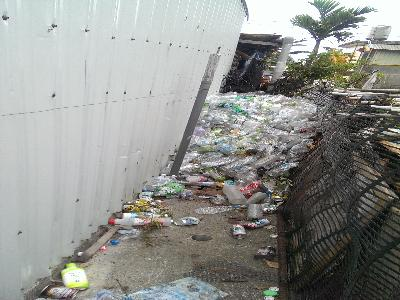bottle: (61, 263, 88, 290), (232, 223, 247, 239)
water_tower: (366, 24, 392, 41)
